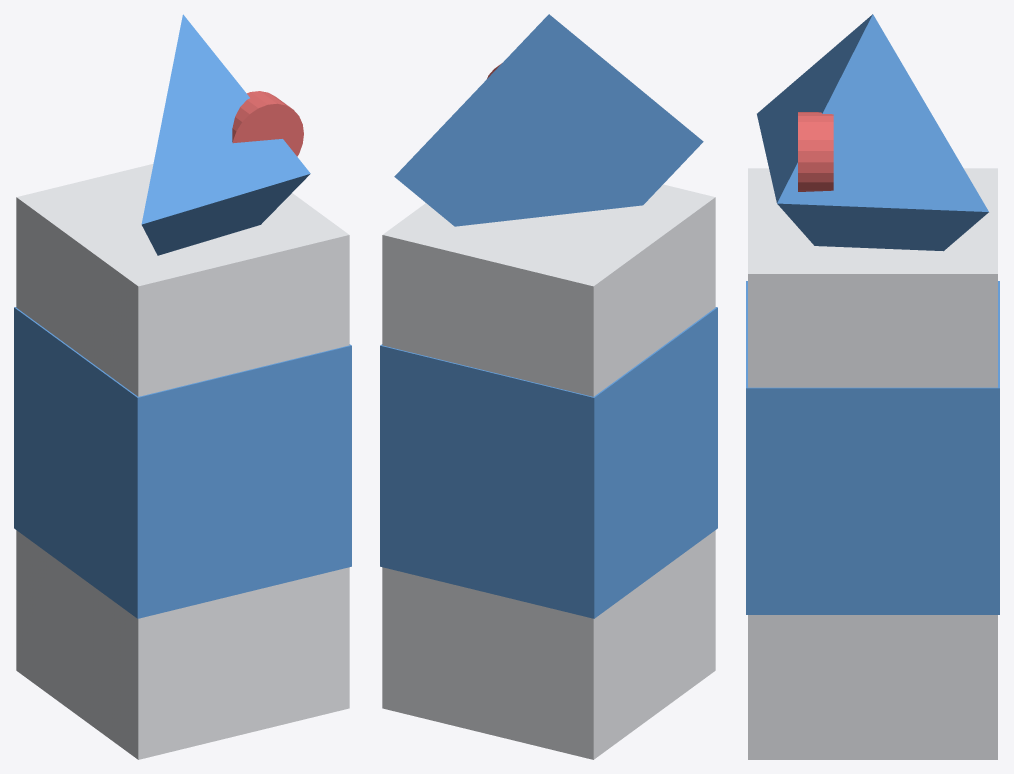
File: milk-carton.glb
The picture shows the model from 3 angles, left to right: view 1: azimuth 30°, elevation 25°; view 2: azimuth 150°, elevation 25°; view 3: azimuth 270°, elevation 25°; orthographic projection. The views are drawn at different scales.
Parts seen in each view (by area): view 1: carton_body, carton_label, carton_gable, carton_cap; view 2: carton_body, carton_label, carton_gable; view 3: carton_body, carton_label, carton_gable, carton_cap.
Part boxes in pixels (left/top/right/bottom): carton_body: left=16, top=164, right=349, bottom=759; carton_label: left=14, top=307, right=351, bottom=618; carton_gable: left=141, top=14, right=310, bottom=255; carton_cap: left=232, top=91, right=303, bottom=156; carton_body: left=382, top=184, right=715, bottom=759; carton_label: left=380, top=307, right=717, bottom=618; carton_gable: left=394, top=14, right=703, bottom=226; carton_body: left=748, top=168, right=997, bottom=759; carton_label: left=746, top=281, right=999, bottom=614; carton_gable: left=757, top=14, right=988, bottom=251; carton_cap: left=798, top=112, right=833, bottom=191.
Size of the model in its own units: 0.071 by 0.214 by 0.071.
